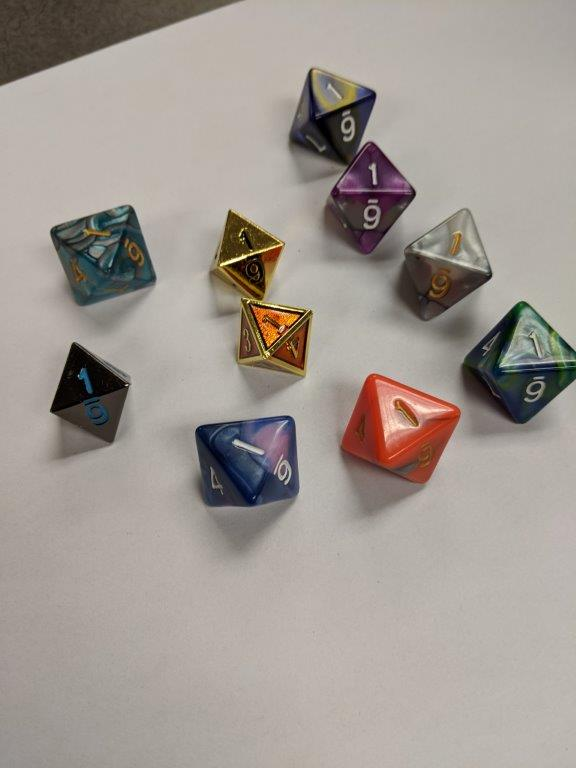d8-1: (341, 367, 463, 490), (461, 299, 576, 422), (49, 198, 156, 310), (403, 205, 495, 322), (320, 141, 415, 253), (196, 415, 302, 513), (51, 340, 130, 451), (289, 67, 374, 170), (206, 208, 289, 307), (229, 296, 312, 378)
